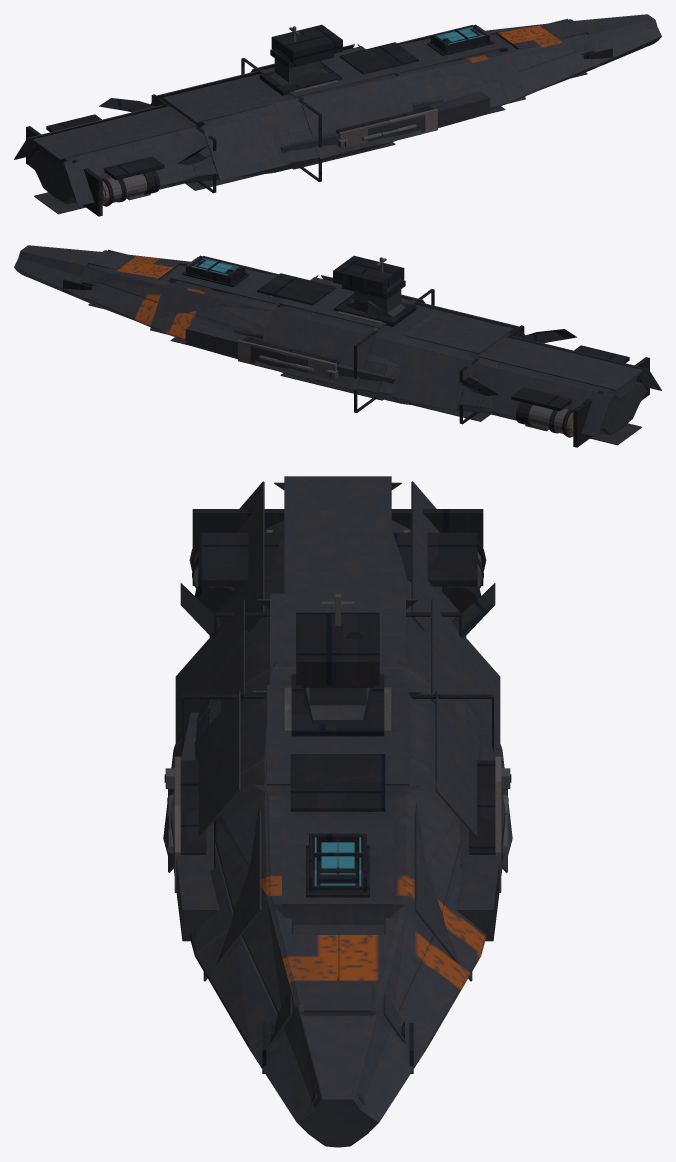
Rendered from colossus_production_v1_lod1.glb.
3 views of the same model, one above another, from view 1: azimuth 30°, elevation 25°; view 2: azimuth 150°, elevation 25°; view 3: azimuth 270°, elevation 25° (orthographic). The views are drawn at different scales.
Parts seen in each view (by area): view 1: LOD1_Hull, LOD1_Armor, LOD1_Mechanical, LOD1_Canopy; view 2: LOD1_Hull, LOD1_Armor, LOD1_Mechanical, LOD1_Canopy; view 3: LOD1_Hull, LOD1_Armor, LOD1_Mechanical, LOD1_Canopy.
Boxes of the visible parts, x1=… form: LOD1_Hull: x1=14, y1=14, x2=661, y2=214; LOD1_Armor: x1=26, y1=24, x2=612, y2=216; LOD1_Mechanical: x1=102, y1=26, x2=437, y2=205; LOD1_Canopy: x1=436, y1=27, x2=484, y2=44; LOD1_Hull: x1=14, y1=245, x2=661, y2=445; LOD1_Armor: x1=63, y1=255, x2=649, y2=447; LOD1_Mechanical: x1=238, y1=257, x2=573, y2=436; LOD1_Canopy: x1=191, y1=258, x2=239, y2=275; LOD1_Hull: x1=163, y1=476, x2=512, y2=1147; LOD1_Armor: x1=180, y1=509, x2=495, y2=1073; LOD1_Mechanical: x1=165, y1=530, x2=510, y2=892; LOD1_Canopy: x1=314, y1=837, x2=361, y2=886.
Size of what is drawn, in the model's own units: 23.56 by 4.73 by 5.88.
8 materials, 8 textured.
